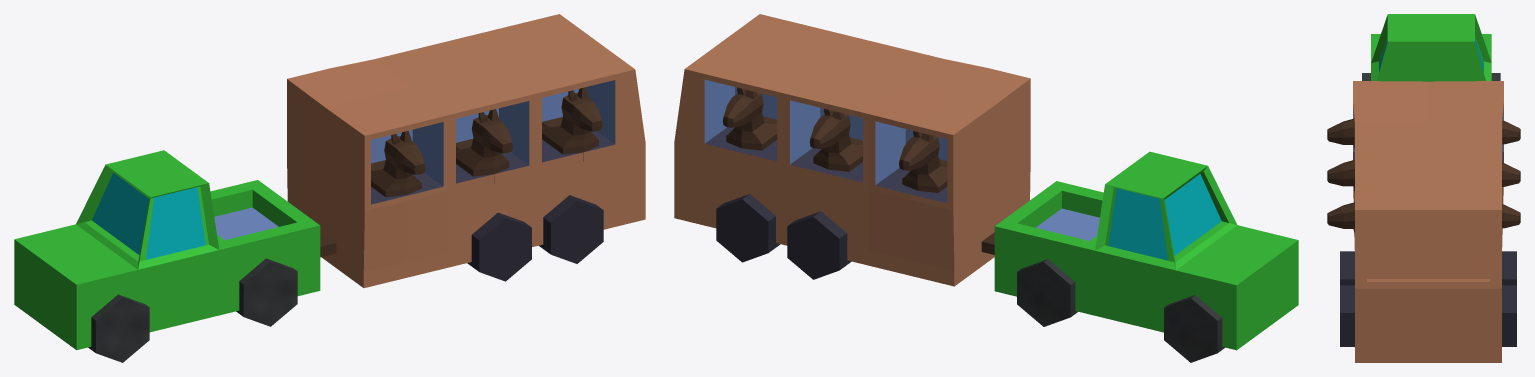
File: Horse_Trailer.fbx
3 renders of one model, left to right at view 1: azimuth 30°, elevation 25°; view 2: azimuth 150°, elevation 25°; view 3: azimuth 270°, elevation 25°, orthographic. The views are drawn at different scales.
Parts seen in each view (by area): view 1: Cube.049; view 2: Cube.049; view 3: Cube.049.
Part boxes in pixels (x1,y1,x2,y2): Cube.049: (14,14,645,362); Cube.049: (674,14,1298,362); Cube.049: (1327,14,1520,362).
Bounding box in the file's own units: 1306 × 387 × 402.
